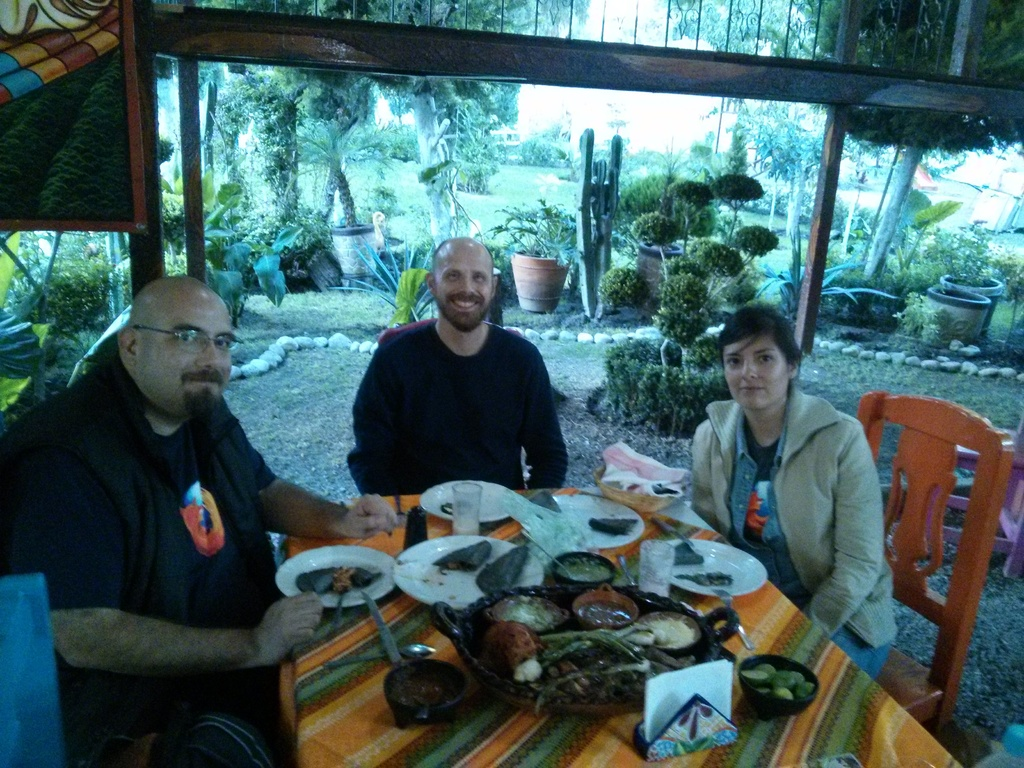Tree: (104, 1, 622, 305), (567, 174, 769, 426), (661, 7, 1023, 65), (831, 177, 996, 287), (752, 108, 888, 232), (0, 241, 128, 354), (888, 188, 975, 299), (802, 259, 885, 295)
